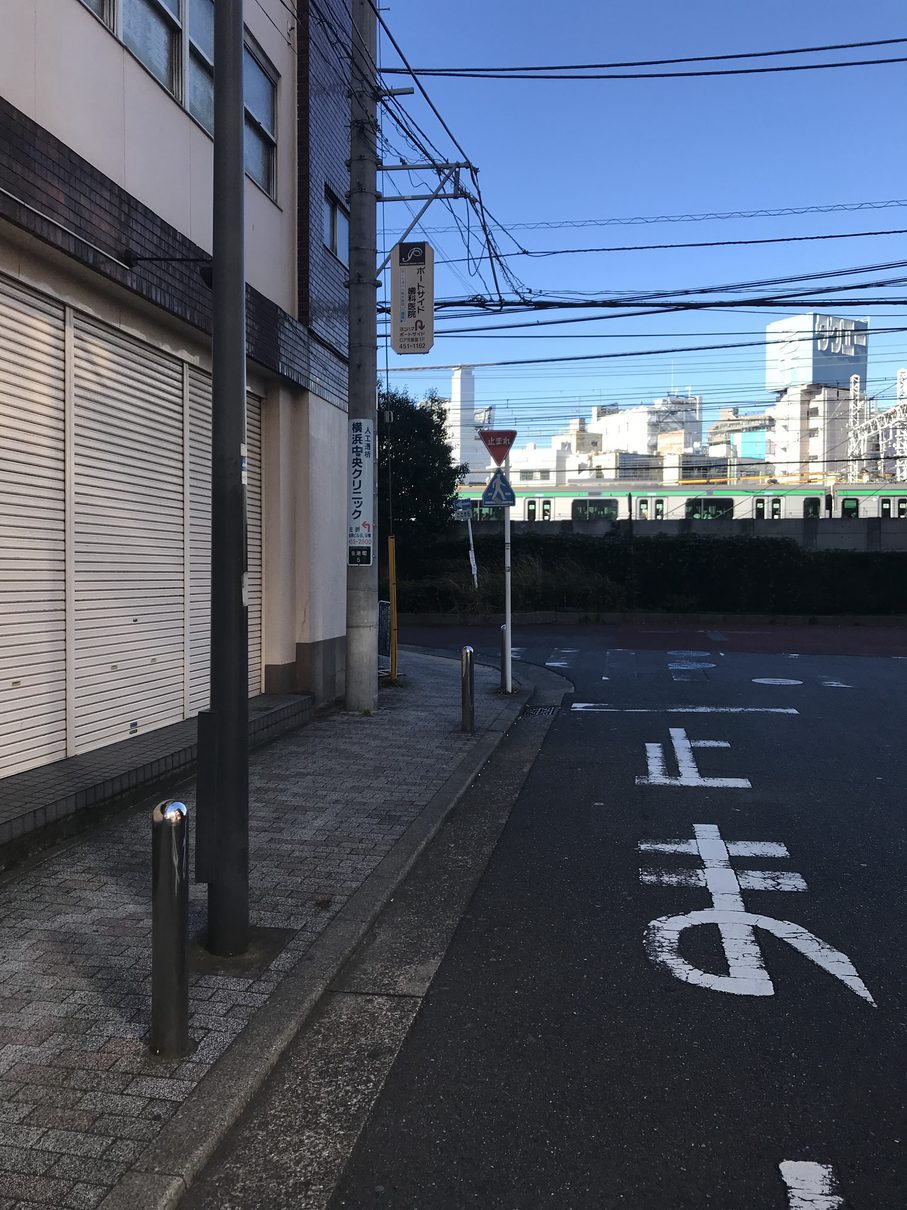stop_sign: (476, 429, 518, 467)
